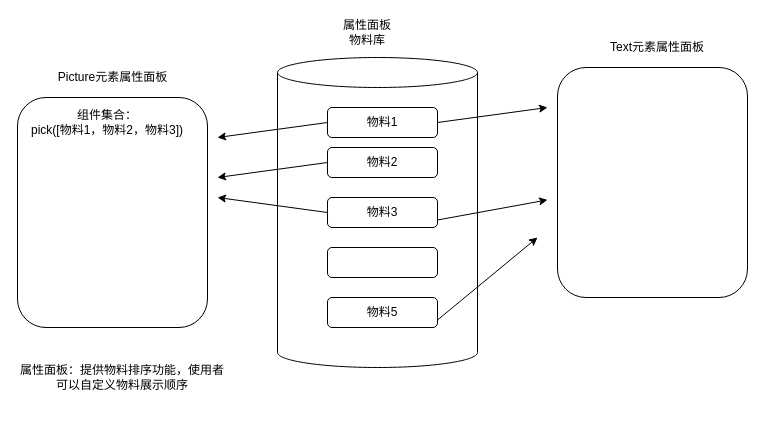
This 765x424 diagram has some shape labels left out. The shapes that lost their labels are listed below. From the top down, each one's centre as x and y in pixels, then its label:
At point 652,182: "组件集合： pick([物料1，物料3，物料5])".
At point 382,262: "物料4".
